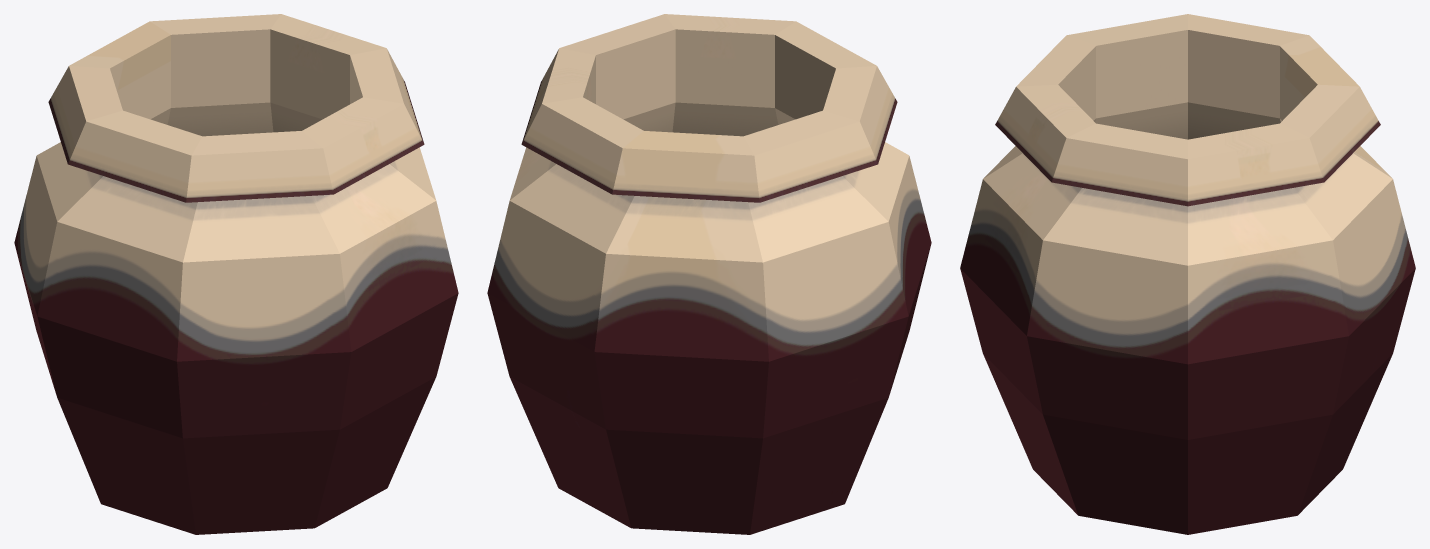
The model's file is Pottery_1_RED.fbx.
3 views of the same model, side by side, from view 1: azimuth 30°, elevation 25°; view 2: azimuth 150°, elevation 25°; view 3: azimuth 270°, elevation 25° (orthographic).
Parts seen in each view (by area): view 1: pCylinder15; view 2: pCylinder15; view 3: pCylinder15.
Boxes of the visible parts, x1,y1,x2,y2 form: pCylinder15: [14, 14, 458, 534]; pCylinder15: [487, 14, 931, 534]; pCylinder15: [960, 14, 1415, 534].
Size of the model in its own units: 2.66 by 2.48 by 2.66.
Materials: 1 (1 with a texture image).
